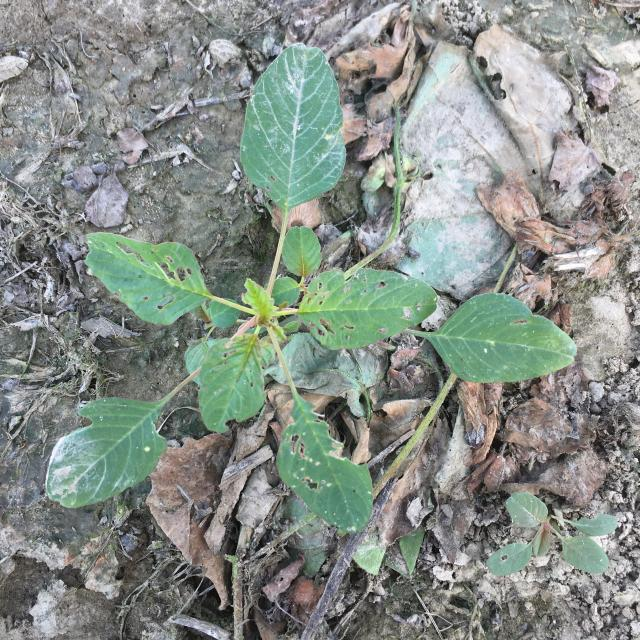PalmerAmaranth: (46, 42, 577, 532), (487, 491, 617, 576)
